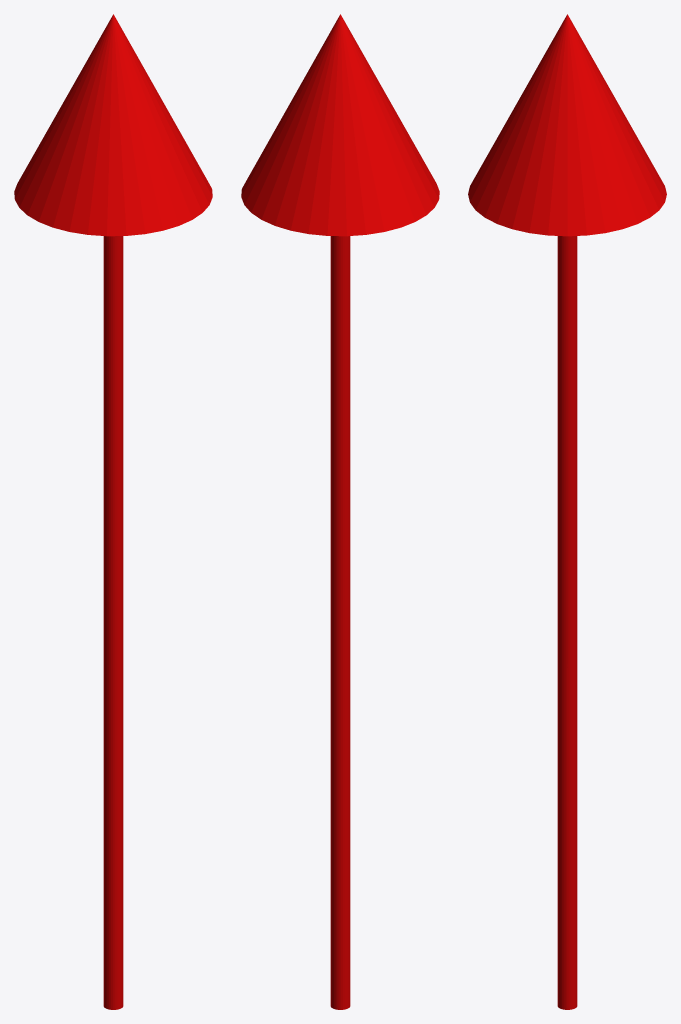
File: arrow_red.fbx
3 views of the same model, side by side, from view 1: azimuth 30°, elevation 25°; view 2: azimuth 150°, elevation 25°; view 3: azimuth 270°, elevation 25° (orthographic).
Visible parts, largest first — view 1: Cone, Cylinder; view 2: Cone, Cylinder; view 3: Cone, Cylinder.
Boxes of the visible parts, x1,y1,x2,y2 form: Cone: [14, 14, 212, 236]; Cylinder: [103, 236, 123, 1009]; Cone: [241, 14, 439, 236]; Cylinder: [330, 236, 350, 1009]; Cone: [468, 14, 666, 236]; Cylinder: [557, 236, 577, 1009].
Bounding box in the file's own units: 20 × 110 × 20.
